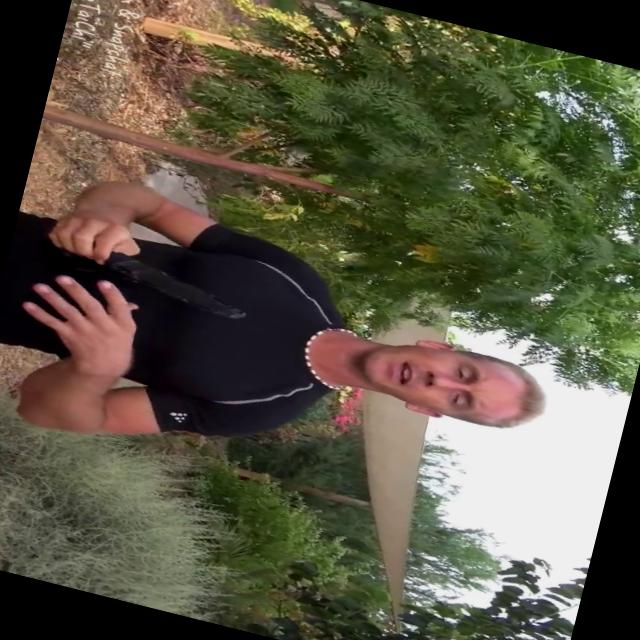knife: (97, 240, 280, 348)
